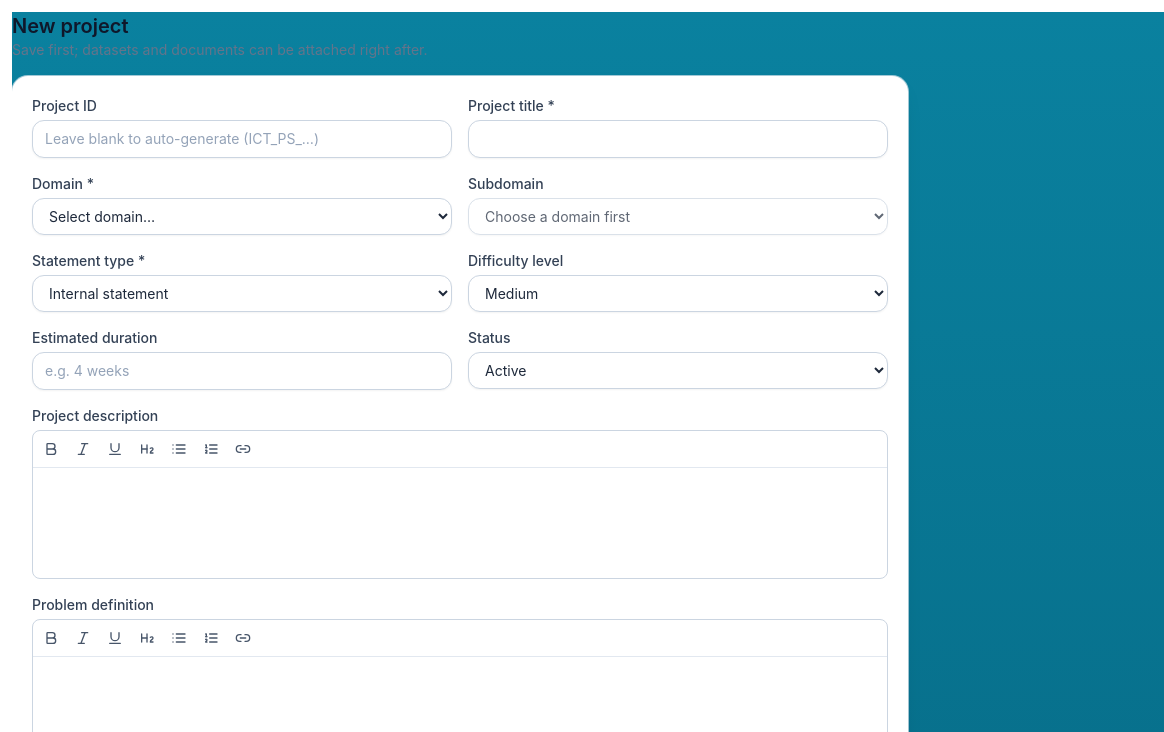
Test case: project form – subdomain › lets the lead add a new subdomain on the spot and selects it
Select "AI & ML" in the dropdown labelled "Domain *" at (242, 216), box 32,198 -> 452,235
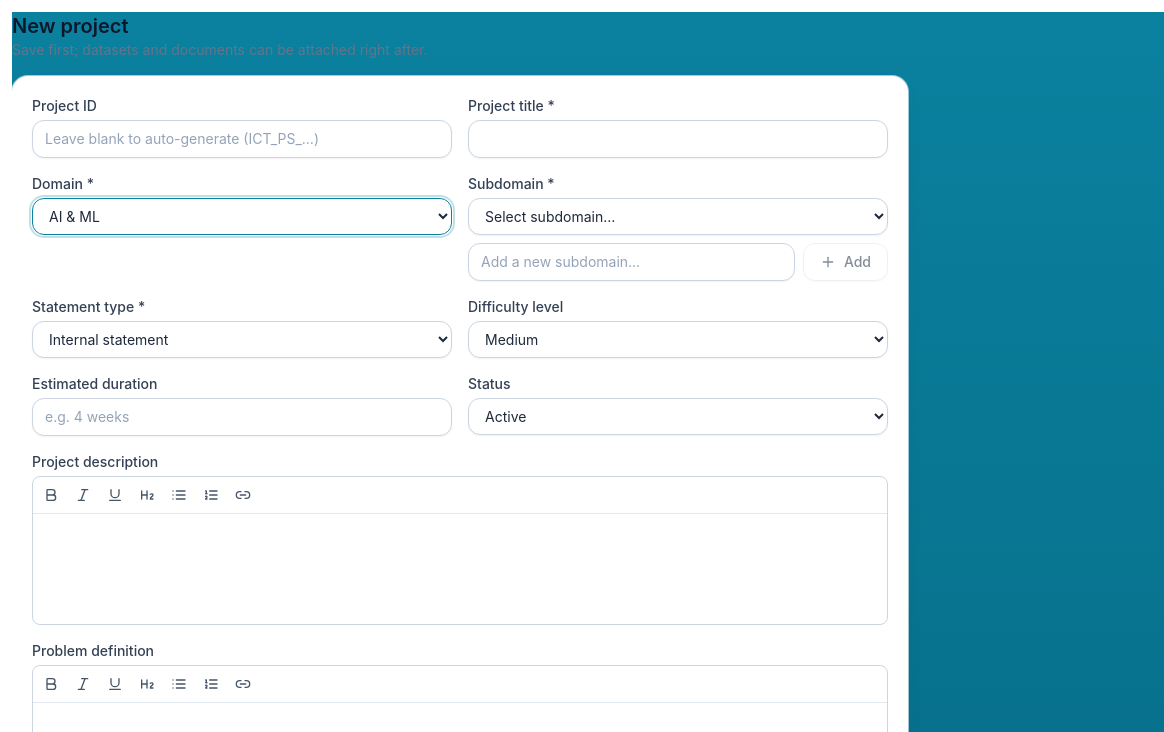
Type "Vision" into the field labelled "new subdomain".
click(631, 262); type("Vision")  # box 468,243 -> 795,281
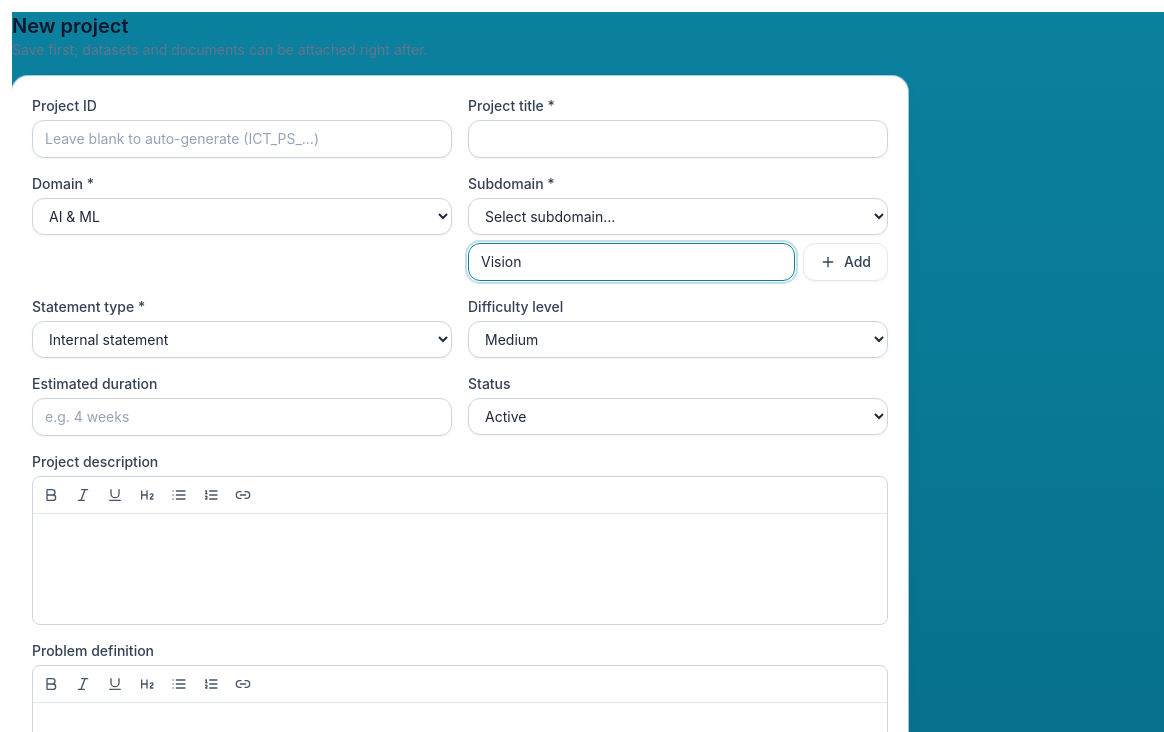
Click the button "Add".
click(845, 262)  # box 803,243 -> 888,281
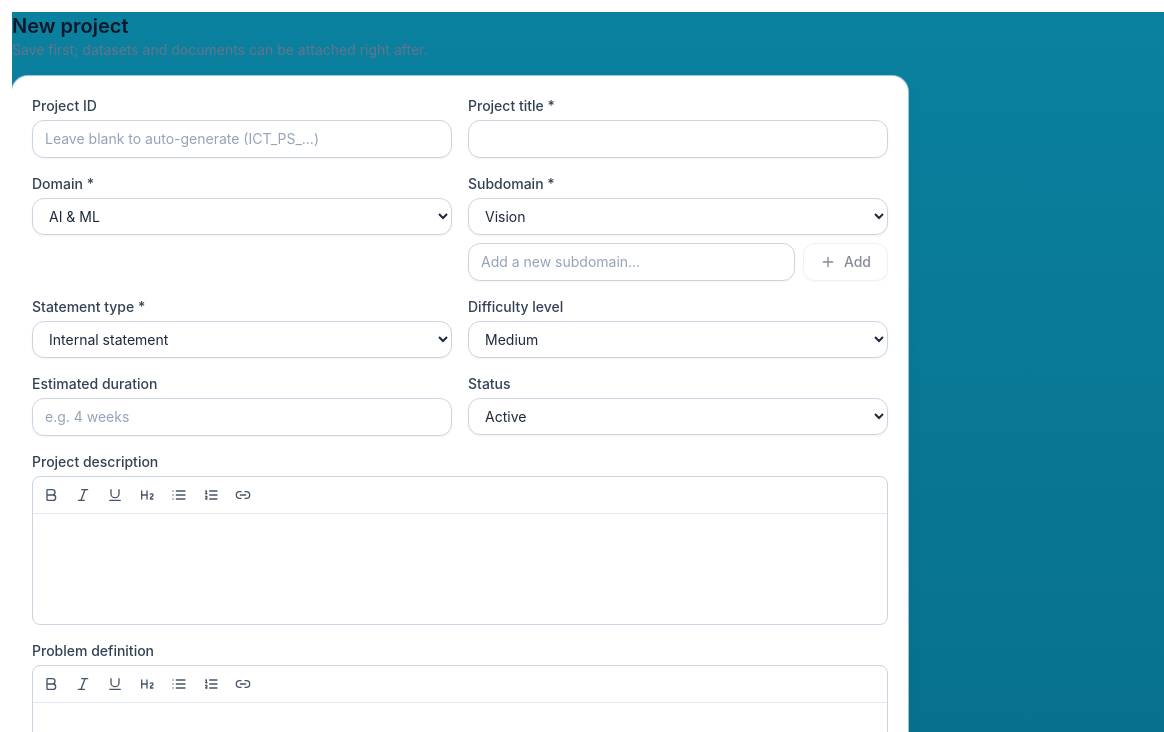
Check: the dropdown labelled "Subdomain *" shows "Vision", box 468,198 -> 888,235
